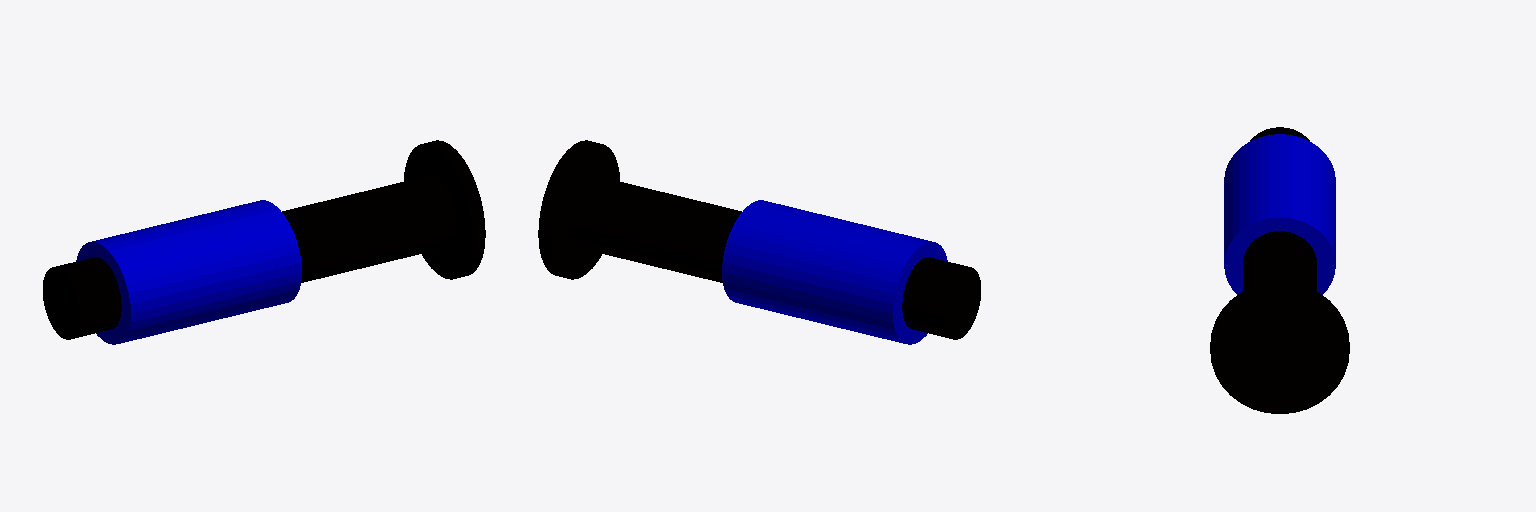
Rendered from hooktarget.obj.
The picture shows the model from 3 angles: view 1: azimuth 30°, elevation 25°; view 2: azimuth 150°, elevation 25°; view 3: azimuth 270°, elevation 25°; orthographic projection.
Parts seen in each view (by area): view 1: Cylinder.001, Cylinder, Cylinder.002; view 2: Cylinder.001, Cylinder, Cylinder.002; view 3: Cylinder.002, Cylinder.001, Cylinder.
Boxes of the visible parts, <box> form: Cylinder.001: <box>76,200,301,344</box>; Cylinder: <box>43,175,456,339</box>; Cylinder.002: <box>404,140,485,279</box>; Cylinder.001: <box>722,200,947,344</box>; Cylinder: <box>567,175,980,339</box>; Cylinder.002: <box>538,140,619,279</box>; Cylinder.002: <box>1210,282,1349,413</box>; Cylinder.001: <box>1224,134,1335,294</box>; Cylinder: <box>1243,127,1316,290</box>.
Size of the model in its own units: 3.01 by 0.9352 by 0.9352.